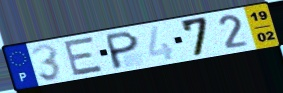2: (217, 13, 251, 51)
3: (30, 43, 64, 82)
4: (147, 24, 176, 61)
7: (179, 16, 211, 59)
E: (63, 35, 106, 78)
P: (105, 30, 141, 71)
